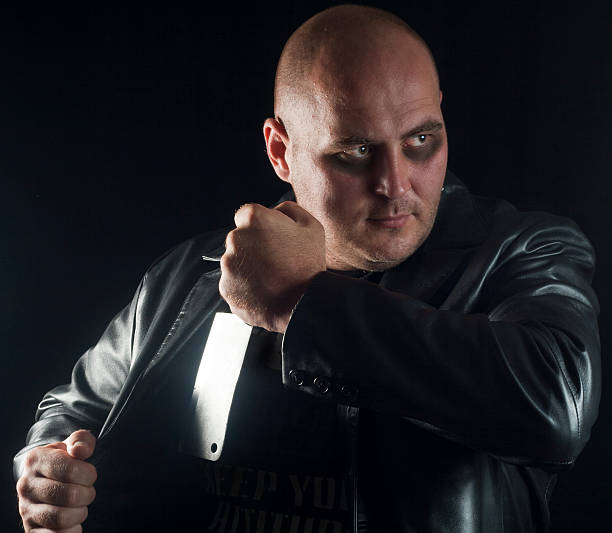knife: (169, 307, 256, 465)
